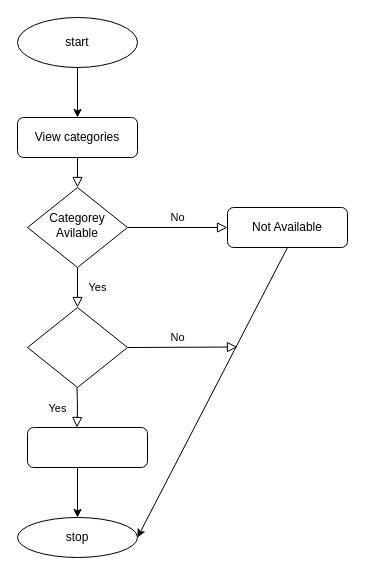
The diagram is 365 pixels wide and 575 high, and some of its shapes have lost their labels. Here are the shapes that lost their labels. From the top down, the centre of each, then its label:
At pixel 77 347: "Sub Category Available".
At pixel 87 447: "Add Product".
